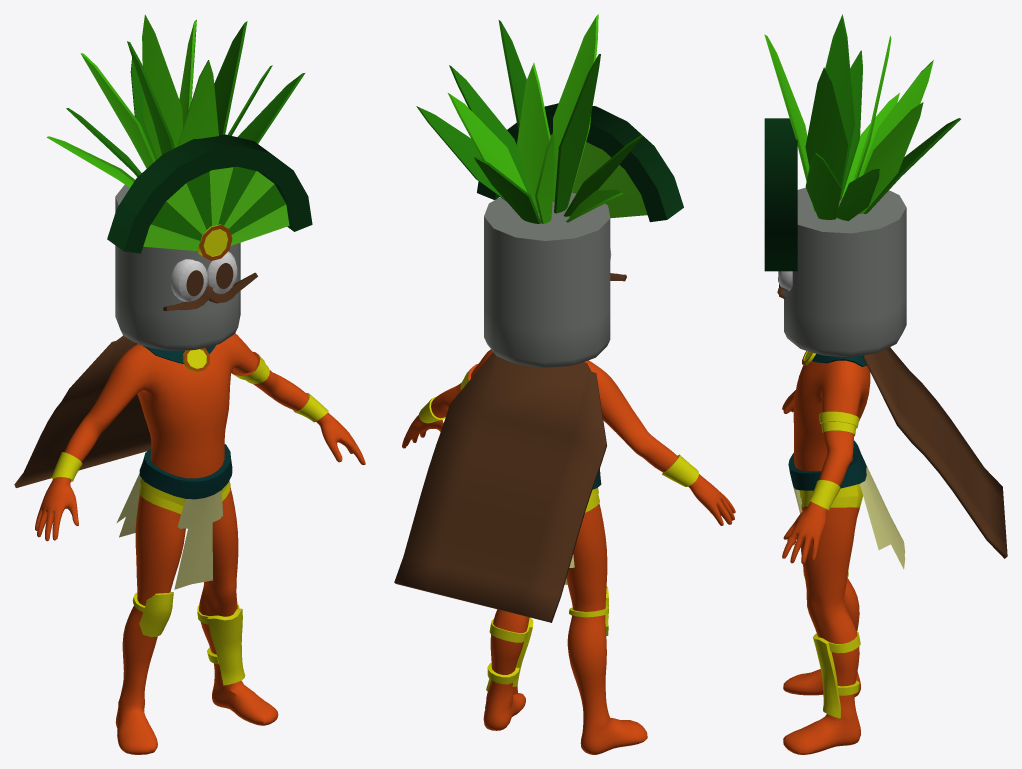
The model's file is cuahumej.fbx.
The picture shows the model from 3 angles, left to right: view 1: azimuth 30°, elevation 25°; view 2: azimuth 150°, elevation 25°; view 3: azimuth 270°, elevation 25°; orthographic projection. The views are drawn at different scales.
Parts seen in each view (by area): view 1: Cuauh_Cuerpo, Cuauh_Penacho, Cuauh_Cabeza, Cuauh_Capa; view 2: Cuauh_Capa, Cuauh_Penacho, Cuauh_Cuerpo, Cuauh_Cabeza; view 3: Cuauh_Cuerpo, Cuauh_Penacho, Cuauh_Cabeza, Cuauh_Capa.
Part boxes in pixels (box(x1,y1,x2,y2)): Cuauh_Cuerpo: box(35, 224, 365, 754); Cuauh_Penacho: box(46, 14, 312, 253); Cuauh_Cabeza: box(115, 184, 257, 350); Cuauh_Capa: box(14, 336, 151, 487); Cuauh_Capa: box(394, 352, 606, 622); Cuauh_Penacho: box(416, 14, 683, 223); Cuauh_Cuerpo: box(402, 349, 735, 754); Cuauh_Cabeza: box(484, 192, 626, 367); Cuauh_Cuerpo: box(782, 351, 905, 754); Cuauh_Penacho: box(764, 14, 960, 271); Cuauh_Cabeza: box(777, 187, 906, 356); Cuauh_Capa: box(863, 347, 1007, 558).
Size of the model in its own units: 134 by 273 by 88.23.
